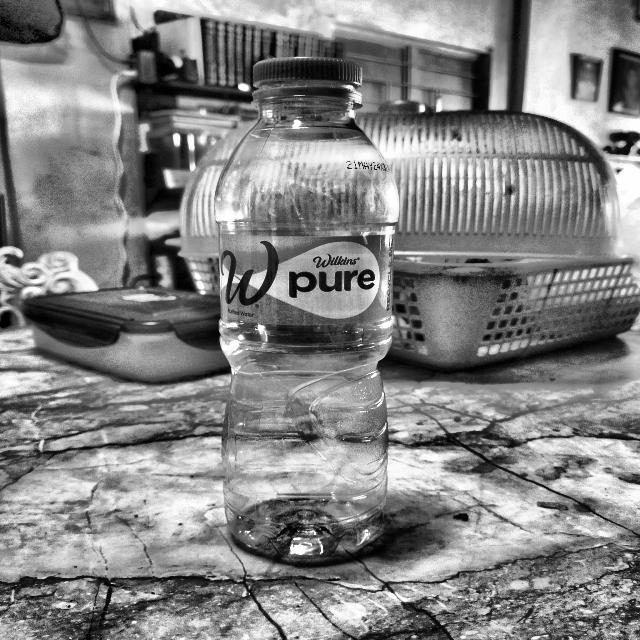Plastic-Bottle: (213, 52, 402, 566)
